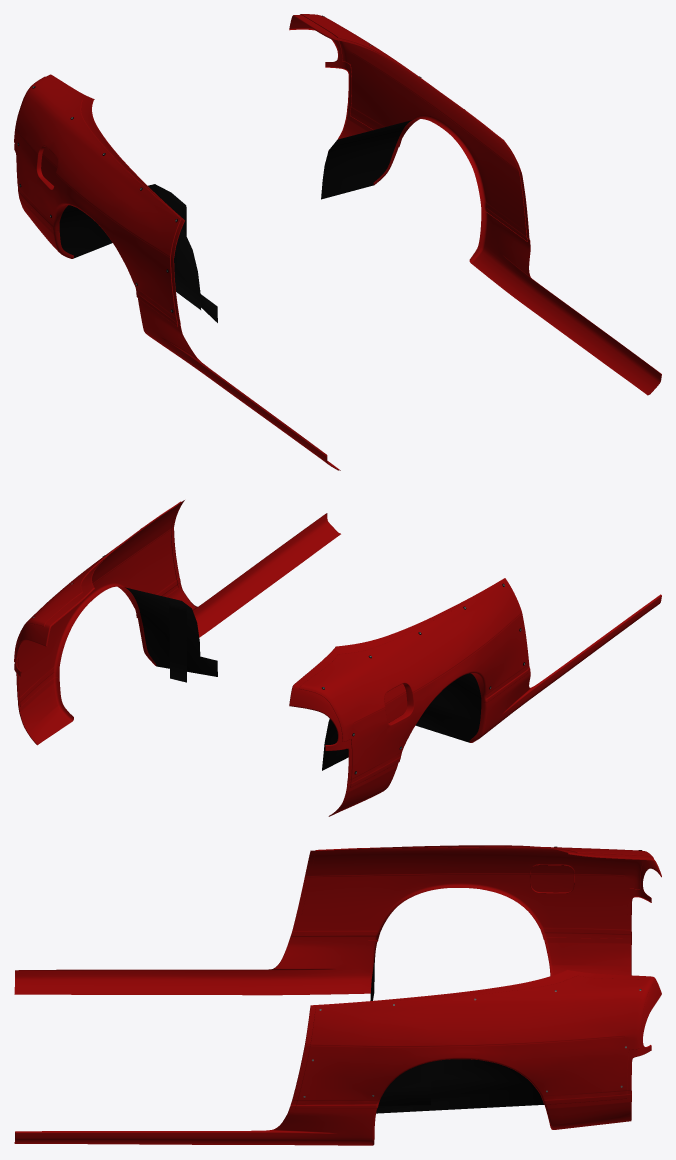
Rendered from rearfenders_originlabofujin.glb.
3 views of the same model, one above another, from view 1: azimuth 30°, elevation 25°; view 2: azimuth 150°, elevation 25°; view 3: azimuth 270°, elevation 25° (orthographic).
Parts seen in each view (by area): view 1: Fenders, Extensions, Undercarriage; view 2: Fenders, Extensions, Undercarriage; view 3: Fenders, Extensions, Undercarriage.
Part boxes in pixels (x1,y1,x2,y2): Fenders: [14, 15, 661, 470]; Extensions: [14, 14, 527, 327]; Undercarriage: [59, 120, 412, 322]; Fenders: [14, 500, 661, 816]; Extensions: [14, 501, 528, 787]; Undercarriage: [125, 587, 481, 770]; Fenders: [14, 845, 661, 1145]; Extensions: [295, 846, 653, 1109]; Undercarriage: [370, 955, 544, 1113].
Bounding box in the file's own units: 1.78 × 0.7374 × 2.73.
